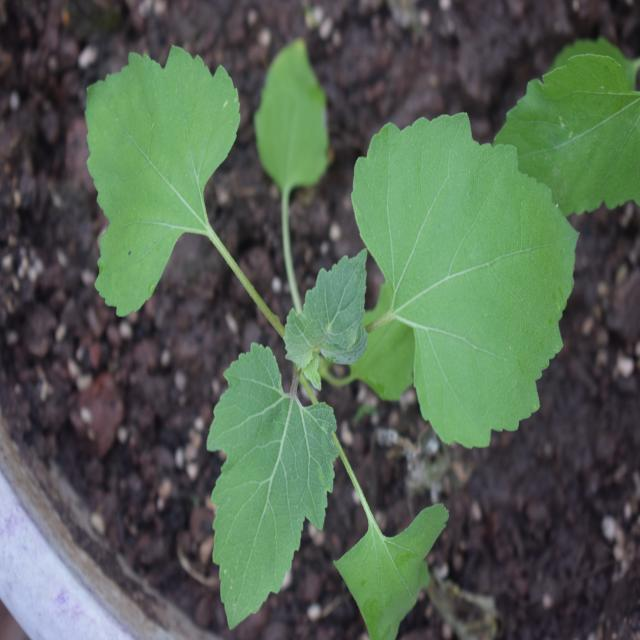cocklebur: (81, 32, 566, 604)
